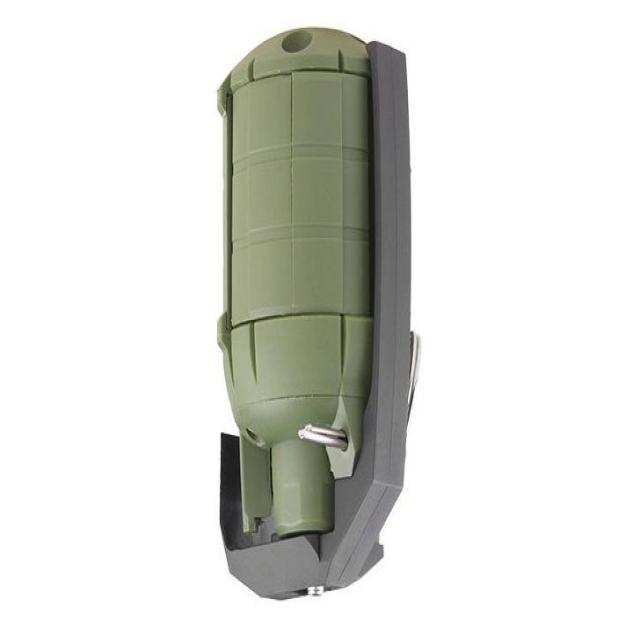grenade: (216, 27, 422, 600)
